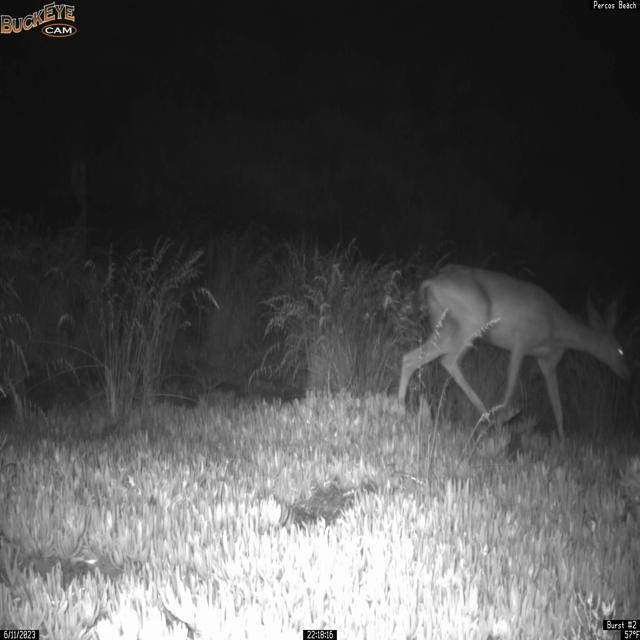deer: (397, 262, 633, 442)
